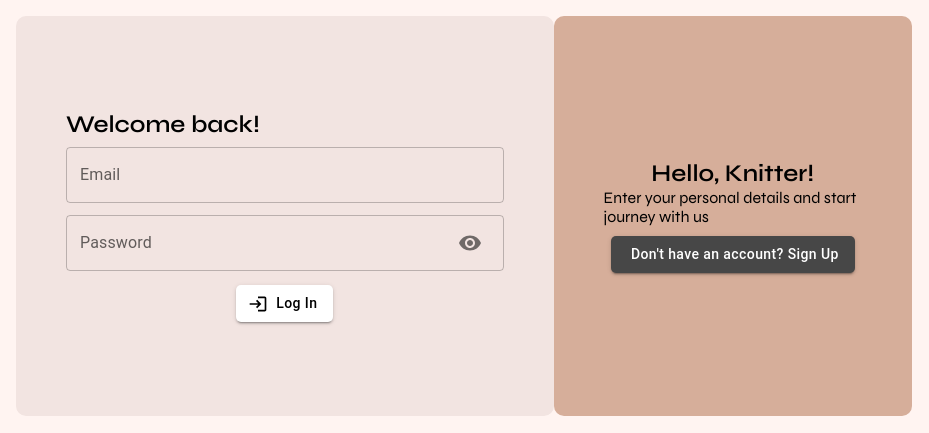
Test: LogIn Component › displays error/info messages for empty form submission
Step 1. Click the button "Log In" → (285, 304), box [236,285,333,322]
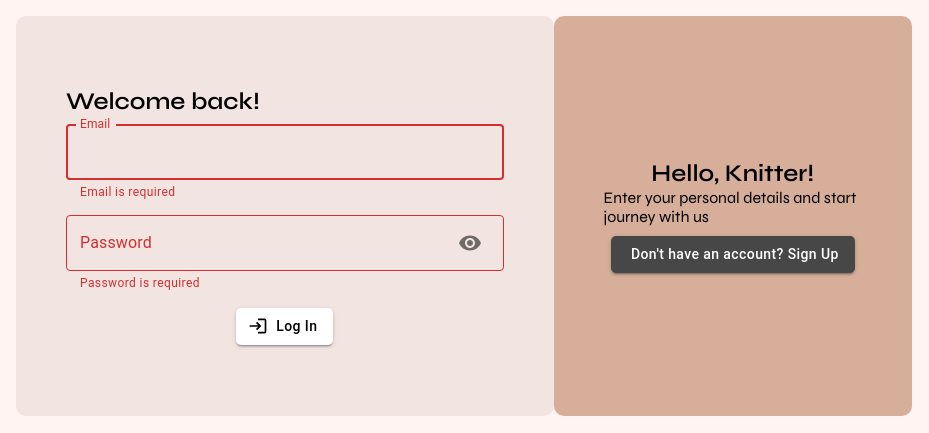
Check: the text "Email is required" is shown, box [80,185,175,199]
Check: the text "Password is required" is shown, box [80,276,200,290]
